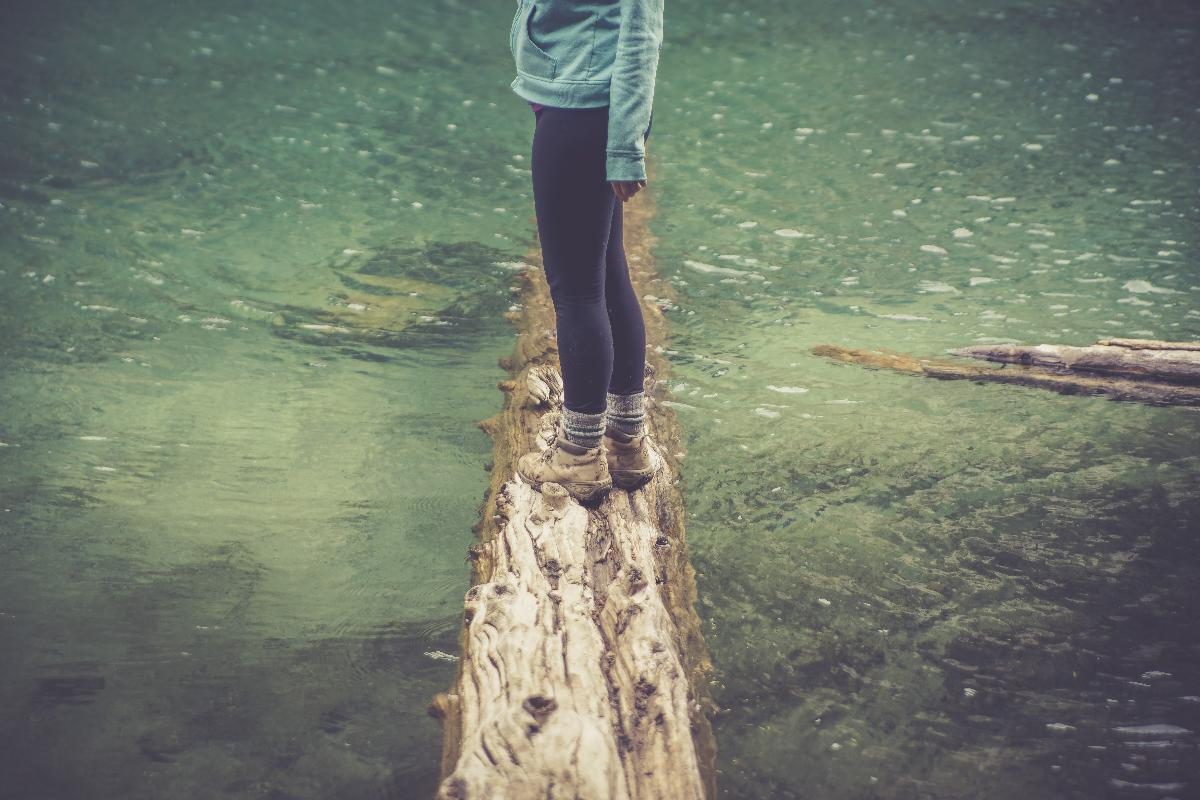Person: (491, 5, 684, 505)
